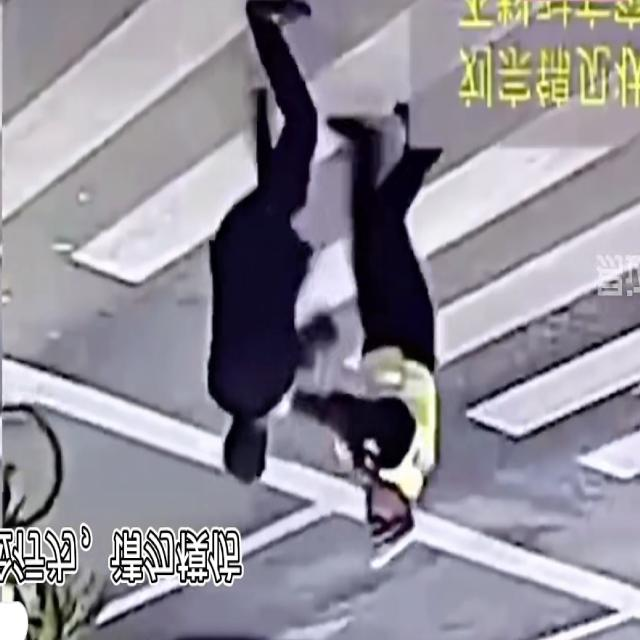nofight: (331, 81, 475, 582), (196, 13, 345, 484)
